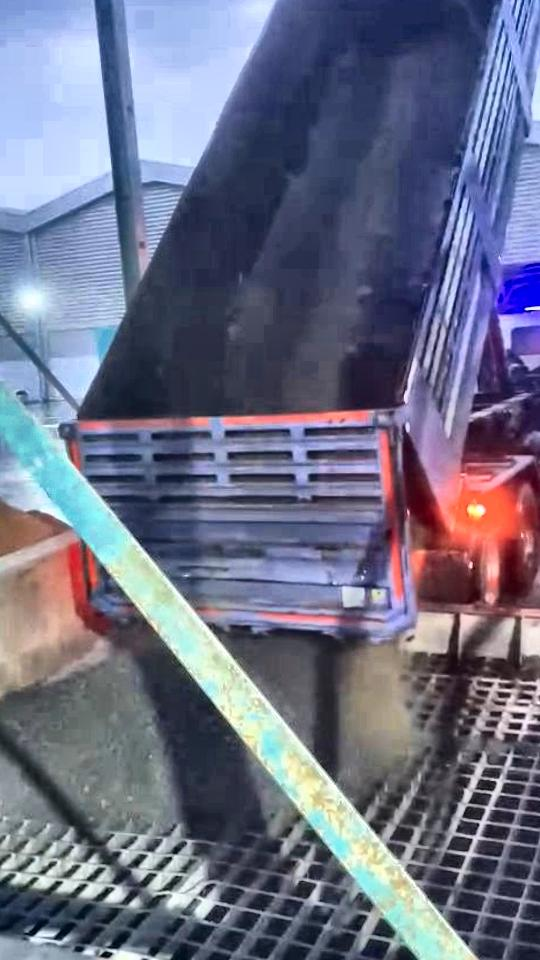gravel: (226, 51, 438, 413), (0, 625, 292, 840), (223, 632, 424, 803), (462, 736, 540, 761)
sand: (0, 489, 64, 569)
